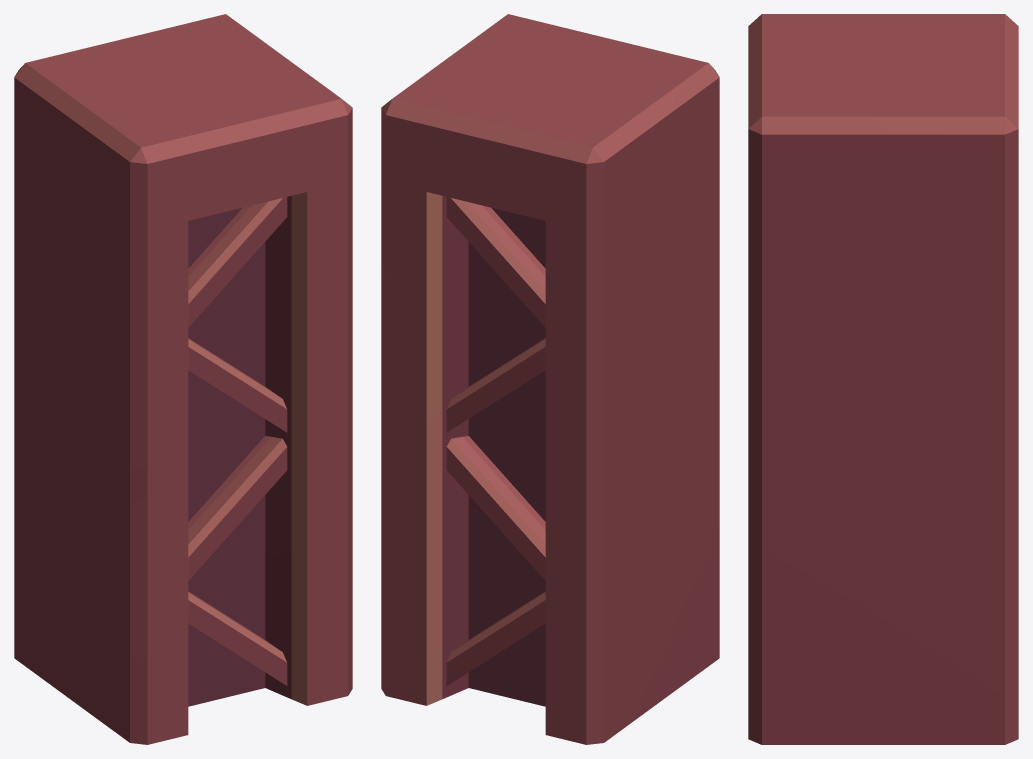
The model's file is Factory_Stone_Column.fbx.
3 views of the same model, side by side, from view 1: azimuth 30°, elevation 25°; view 2: azimuth 150°, elevation 25°; view 3: azimuth 270°, elevation 25° (orthographic). The views are drawn at different scales.
Visible parts, largest first — view 1: Factory_Stone_Column; view 2: Factory_Stone_Column; view 3: Factory_Stone_Column.
Part boxes in pixels (left/top/right/bottom): Factory_Stone_Column: left=14, top=14, right=352, bottom=744; Factory_Stone_Column: left=381, top=14, right=719, bottom=744; Factory_Stone_Column: left=748, top=14, right=1018, bottom=744.
Size of the model in its own units: 54.55 by 139 by 54.55.
